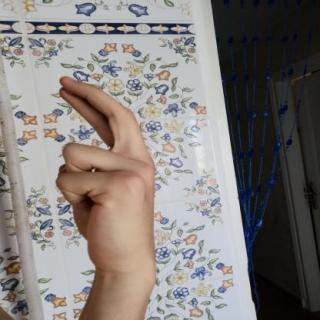ZAY: (48, 71, 169, 287)
